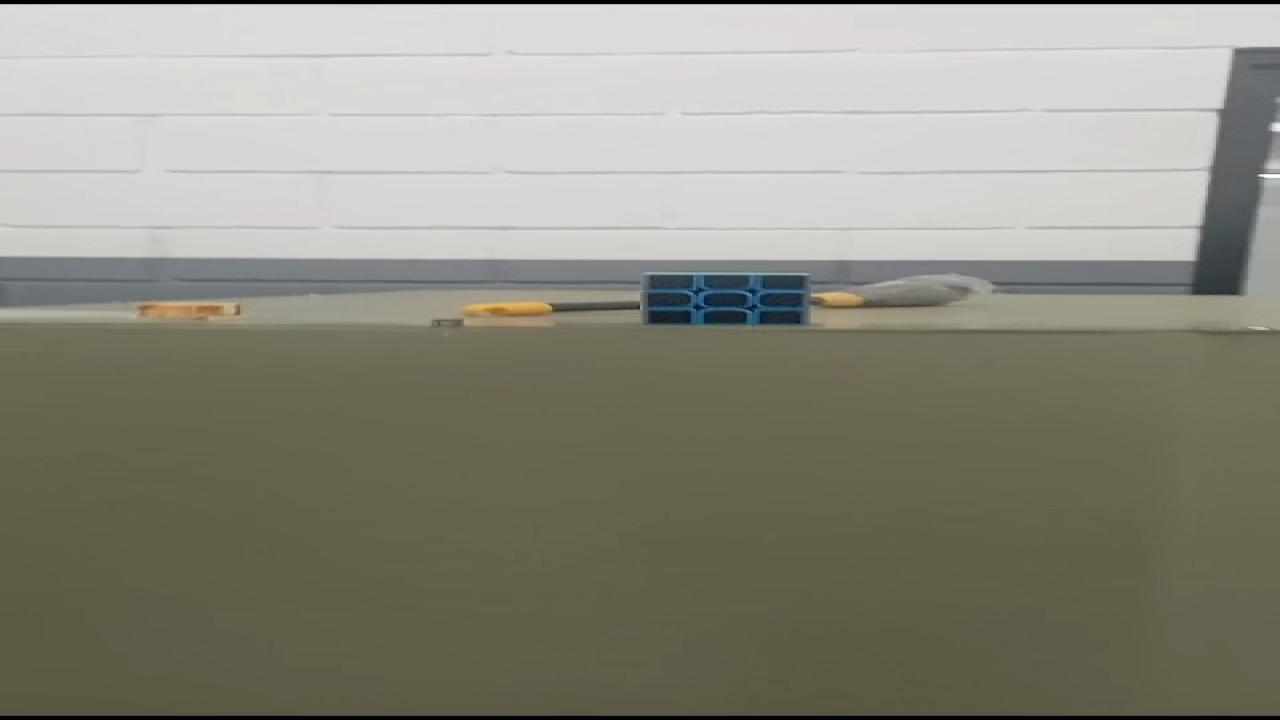Cube: (635, 271, 813, 326)
